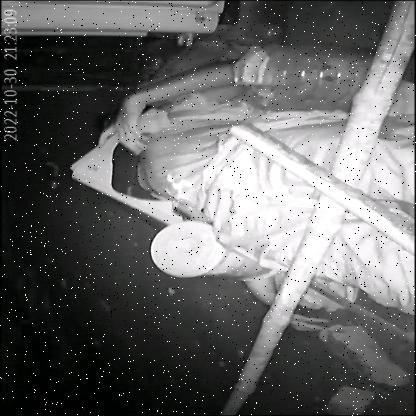hand: (65, 74, 204, 159), (287, 306, 337, 336)
